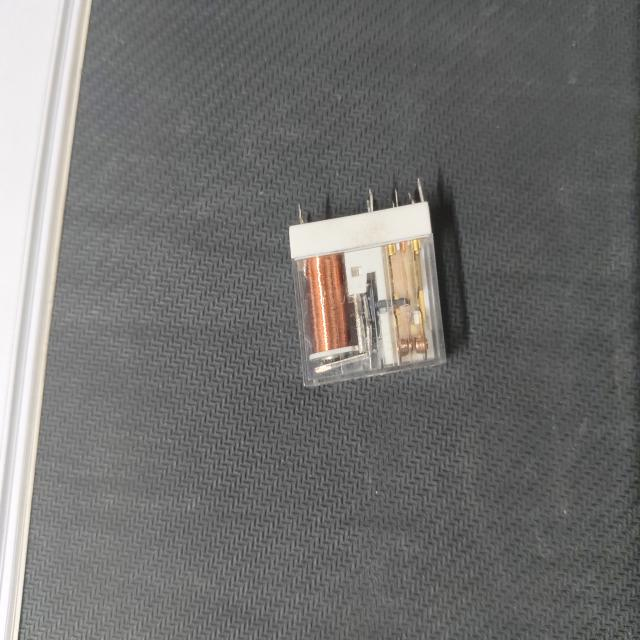relay: (278, 169, 458, 395)
